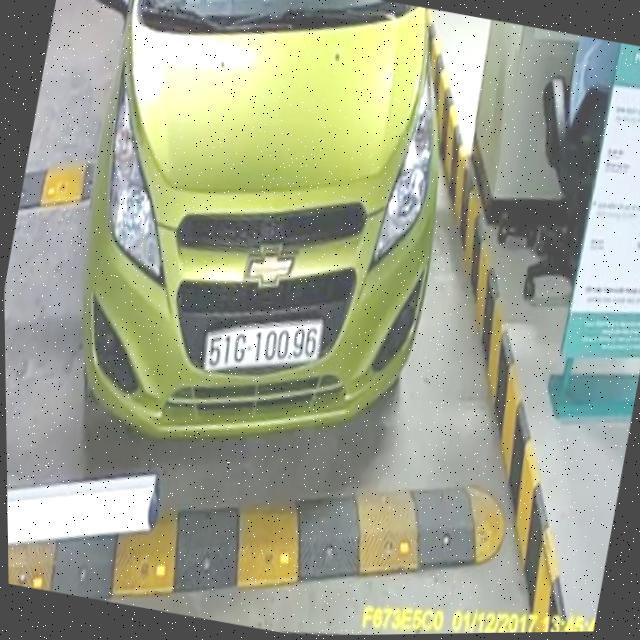car: (5, 0, 488, 488)
plate: (199, 299, 327, 394)
